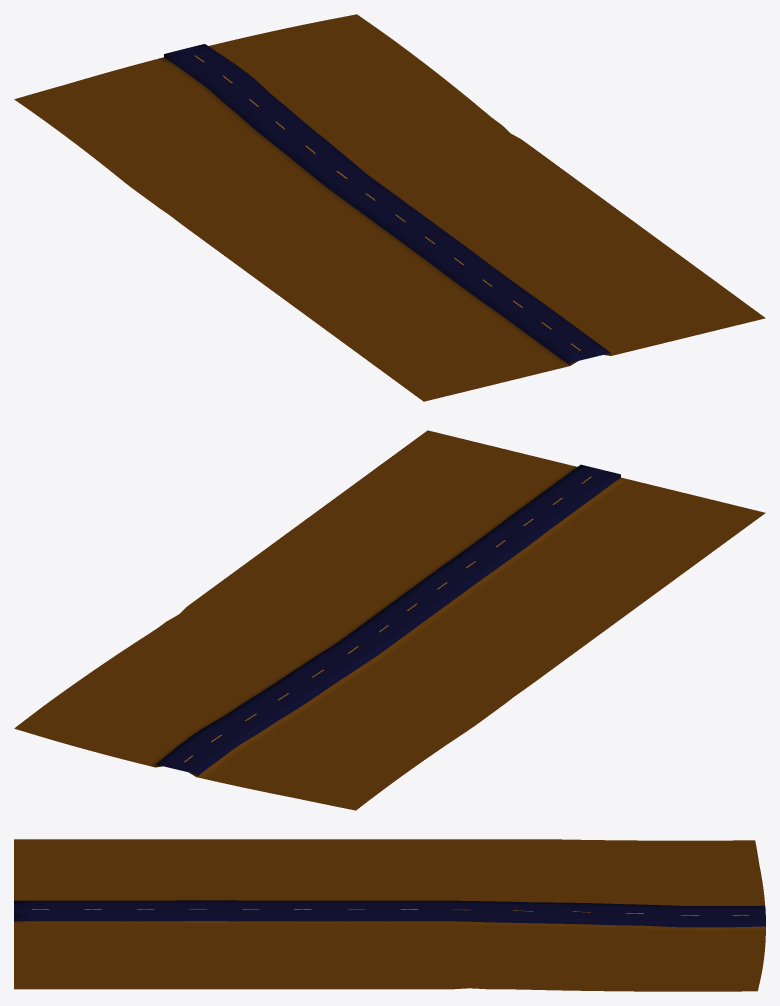
The model's file is Landscape_2 1.fbx.
3 views of the same model, one above another, from view 1: azimuth 30°, elevation 25°; view 2: azimuth 150°, elevation 25°; view 3: azimuth 270°, elevation 25° (orthographic). The views are drawn at different scales.
Visible parts, largest first — view 1: Плоскость; view 2: Плоскость; view 3: Плоскость.
Part boxes in pixels (box(x1,y1,x2,y2)): Плоскость: box(14, 14, 765, 401); Плоскость: box(14, 430, 765, 810); Плоскость: box(14, 839, 765, 991).
Bounding box in the file's own units: 5186 × 44.55 × 10802.
